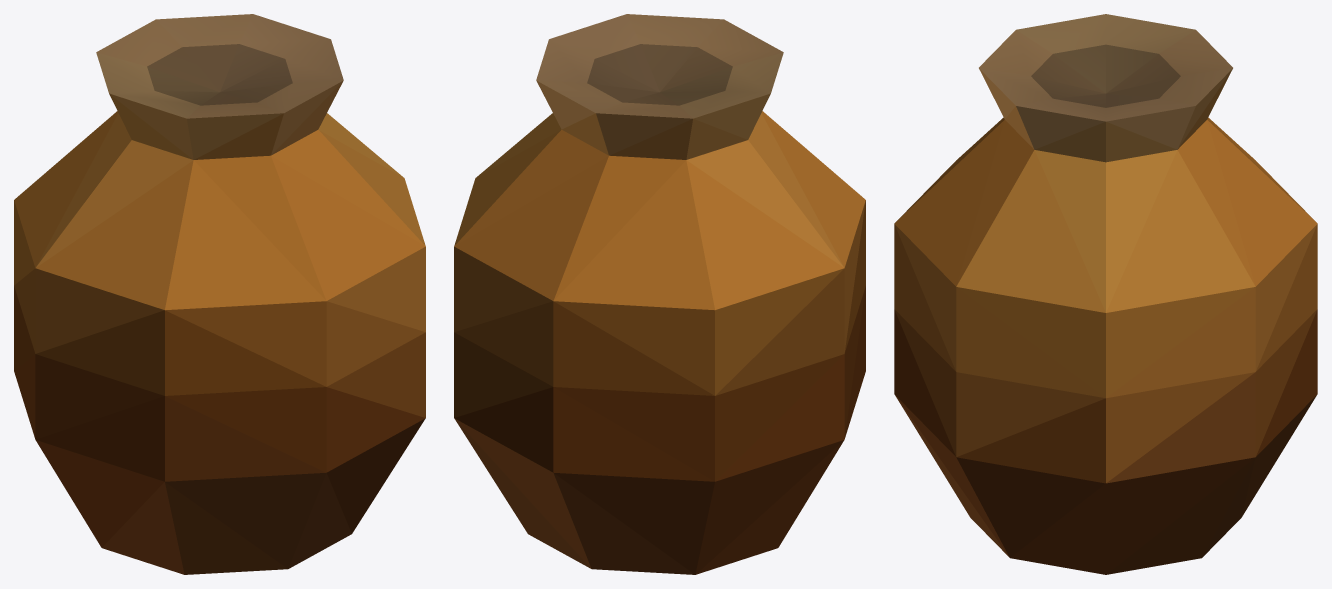
File: prop_container_vase_1.fbx
The picture shows the model from 3 angles, left to right: view 1: azimuth 30°, elevation 25°; view 2: azimuth 150°, elevation 25°; view 3: azimuth 270°, elevation 25°; orthographic projection.
Visible parts, largest first — view 1: prop_container_vase_1; view 2: prop_container_vase_1; view 3: prop_container_vase_1.
Boxes of the visible parts, x1,y1,x2,y2 form: prop_container_vase_1: (14, 14, 425, 574); prop_container_vase_1: (454, 14, 865, 574); prop_container_vase_1: (894, 14, 1317, 574).
Size of the model in its own units: 0.7507 by 0.88 by 0.7508.
